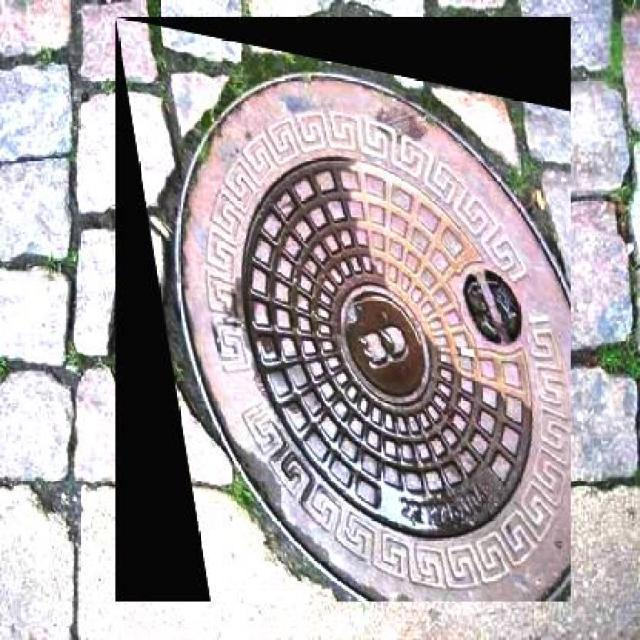Manhole: (115, 18, 571, 602)
